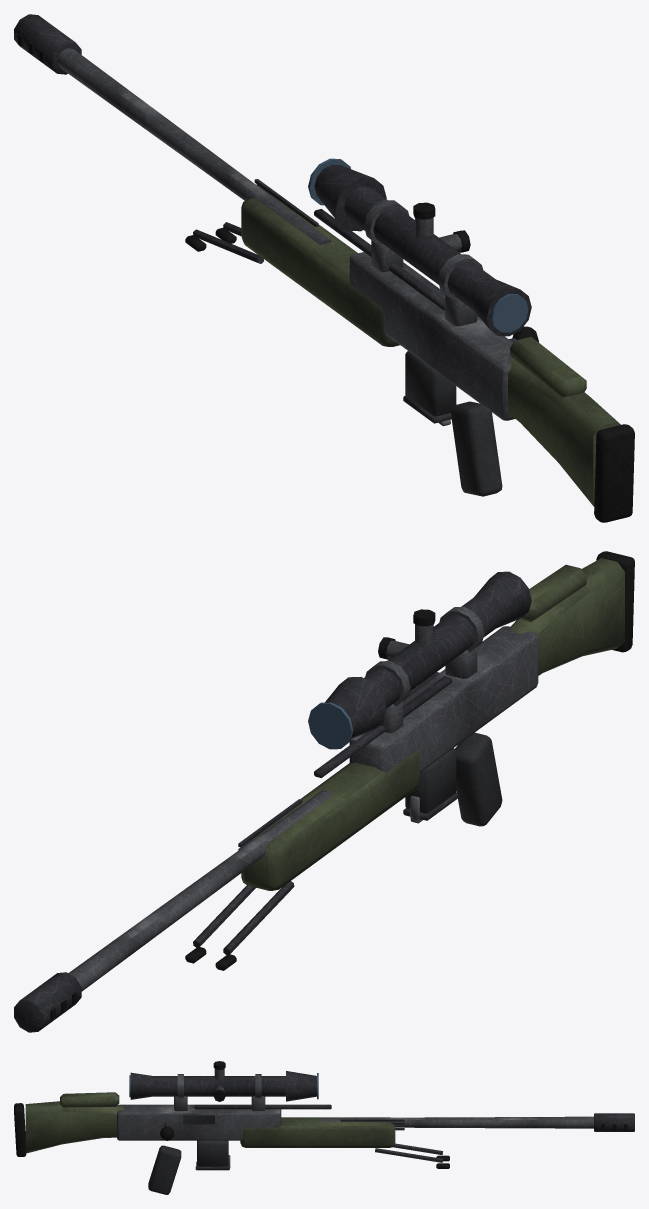
File: sniper.glb
The picture shows the model from 3 angles, top to bottom: view 1: azimuth 30°, elevation 25°; view 2: azimuth 150°, elevation 25°; view 3: azimuth 270°, elevation 25°; orthographic projection. The views are drawn at different scales.
Visible parts, largest first — view 1: body, mag; view 2: body, mag; view 3: body, mag.
Part boxes in pixels (x1,y1,x2,y2): body: [14, 14, 634, 522]; mag: [403, 351, 456, 423]; body: [14, 551, 634, 1032]; mag: [403, 748, 458, 820]; body: [14, 1061, 634, 1194]; mag: [196, 1140, 229, 1170].
Bounding box in the file's own units: 0.118 × 0.3132 × 1.36.
Materials: 6 (5 with a texture image).
